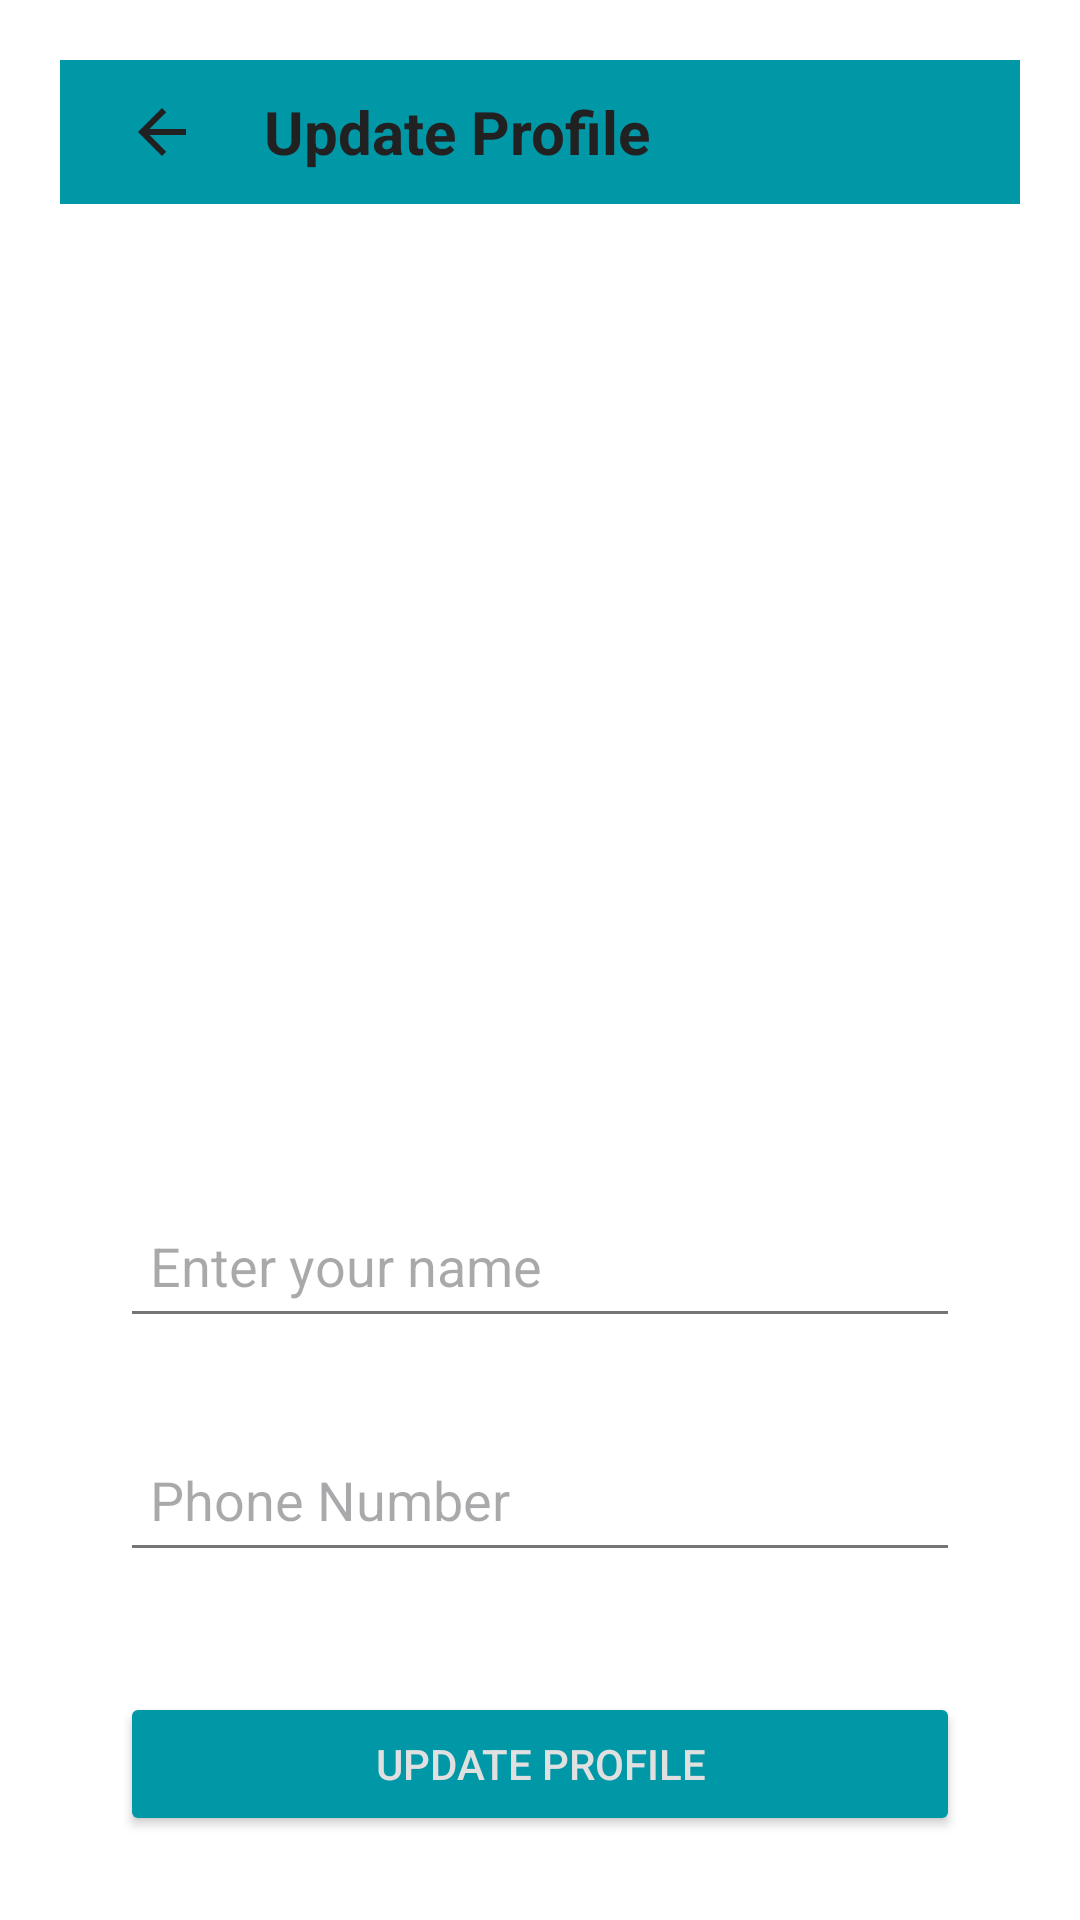

Named icons in this screenshot (1080w x 1920h) and their bounding boxes, [x1,y1,x2,y2]:
back arrow: [138,108,186,156]
